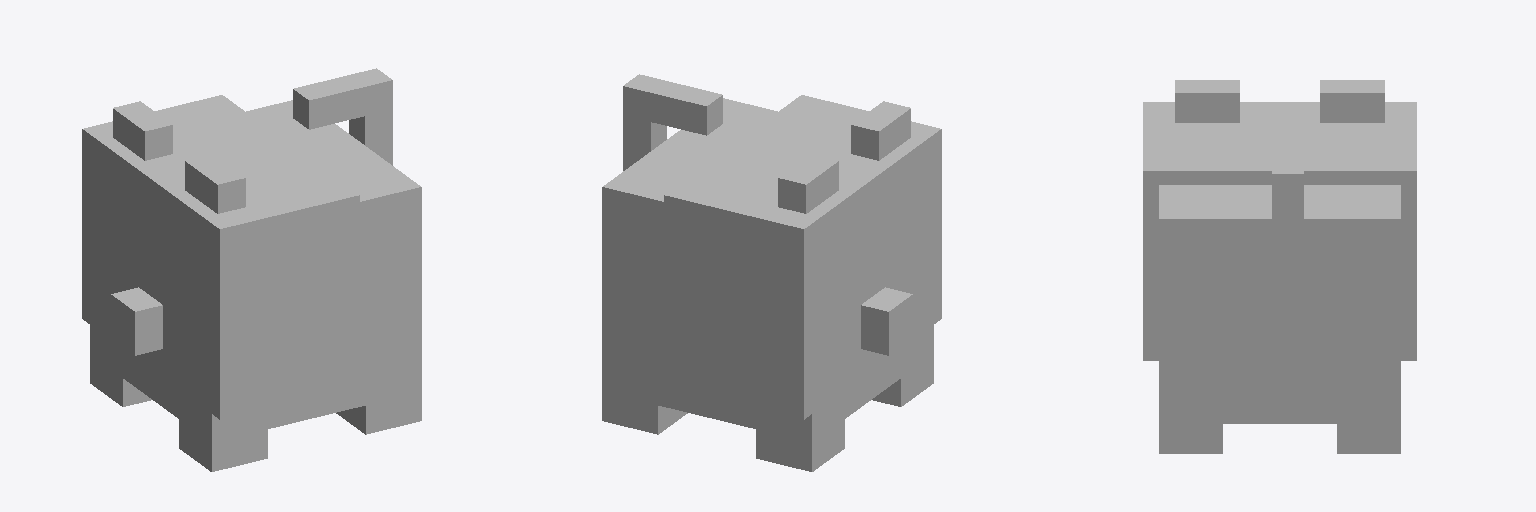
Rendered from lion.obj.
3 views of the same model, side by side, from view 1: azimuth 30°, elevation 25°; view 2: azimuth 150°, elevation 25°; view 3: azimuth 270°, elevation 25° (orthographic).
Visible parts, largest first — view 1: lion; view 2: lion; view 3: lion.
Part boxes in pixels (bbox=[...]): lion: bbox=[82, 68, 421, 471]; lion: bbox=[602, 74, 941, 471]; lion: bbox=[1143, 80, 1416, 453].
Size of the model in its own units: 19 by 20 by 17.